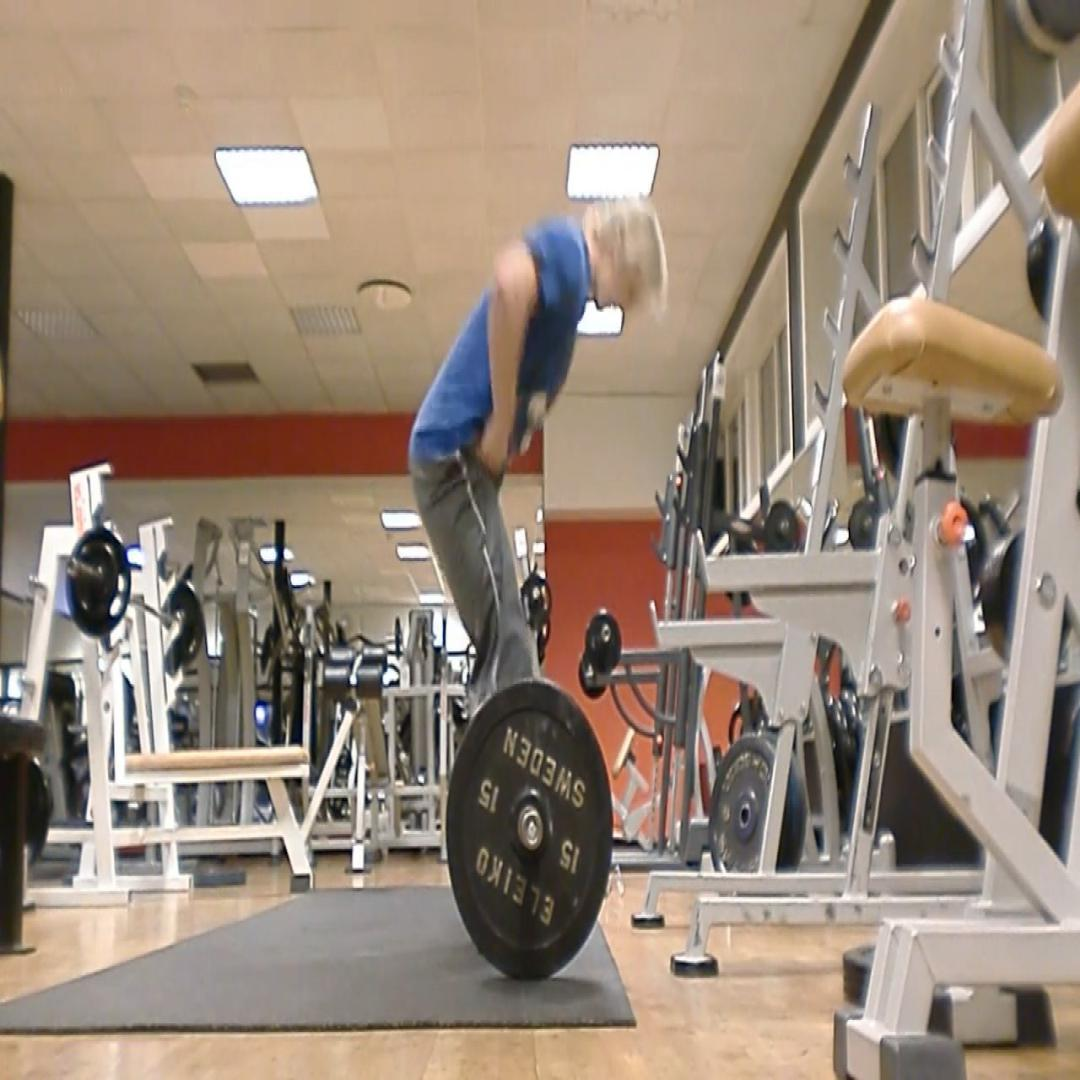Bar: (519, 805, 543, 849)
Barbell: (446, 680, 612, 980)
